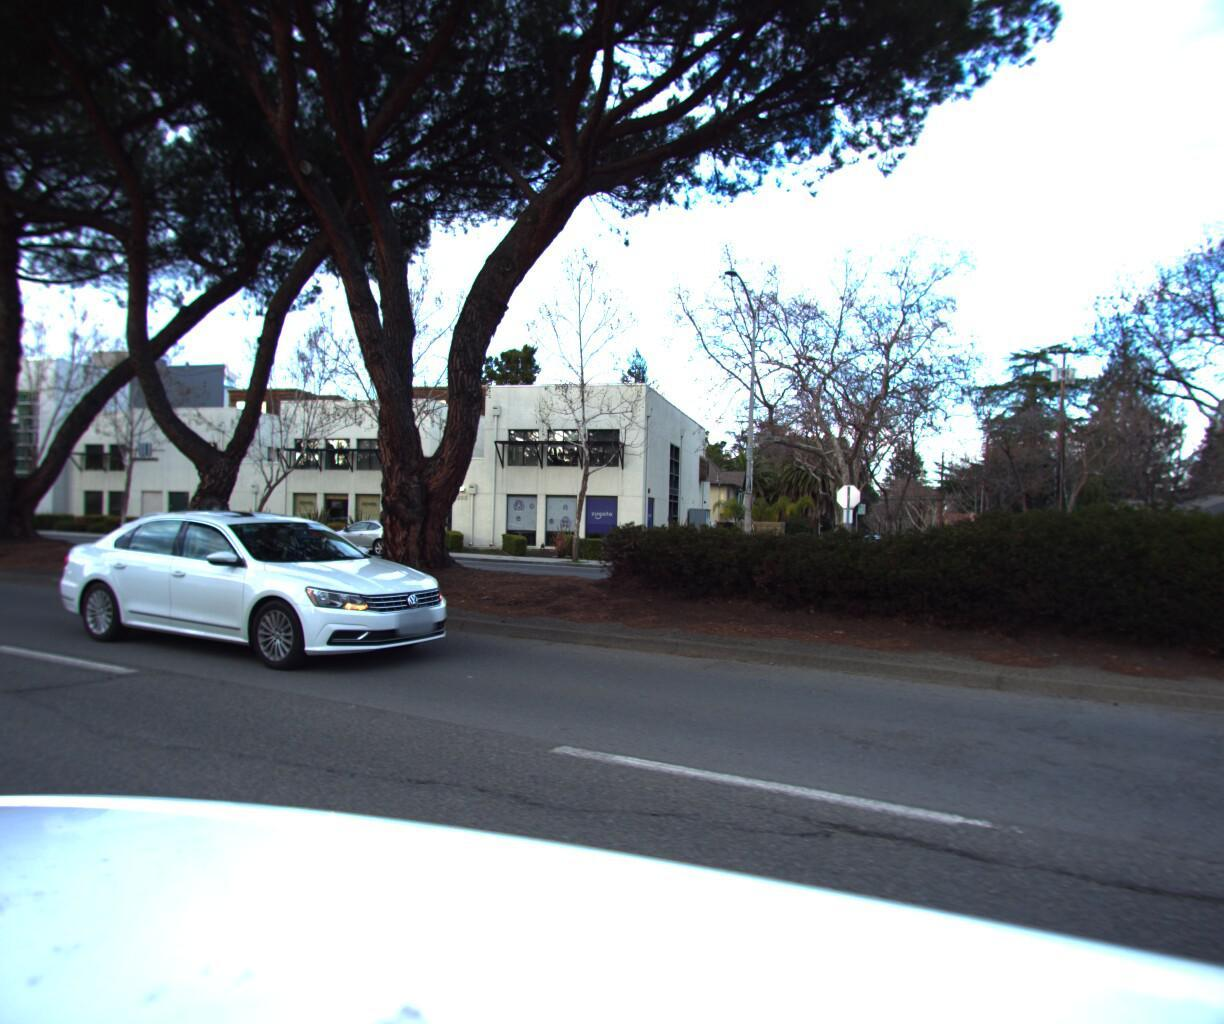car: (51, 504, 487, 682), (309, 513, 424, 551), (104, 505, 213, 540), (736, 509, 814, 536), (0, 500, 8, 528)
